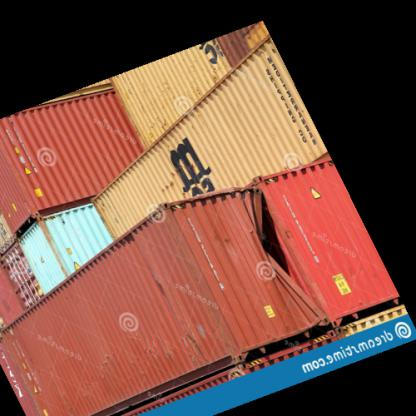Damage: (240, 193, 300, 280)
